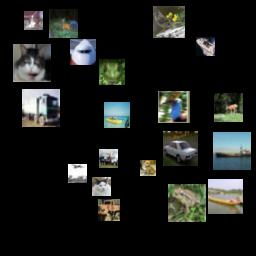airplane: (70, 39, 96, 65), (68, 164, 87, 183)
automobile: (163, 131, 198, 166)
bird: (153, 6, 185, 38), (158, 91, 190, 123)
cat: (13, 44, 51, 82), (92, 177, 111, 196)
deer: (214, 93, 243, 122), (49, 9, 78, 38)
dog: (24, 11, 43, 30), (140, 160, 156, 176)
frog: (168, 184, 206, 222), (99, 59, 125, 85)
ship: (213, 132, 251, 170), (208, 179, 243, 214), (104, 102, 130, 128), (196, 37, 215, 56)
truck: (22, 89, 60, 127), (98, 199, 120, 221), (99, 149, 118, 168)
